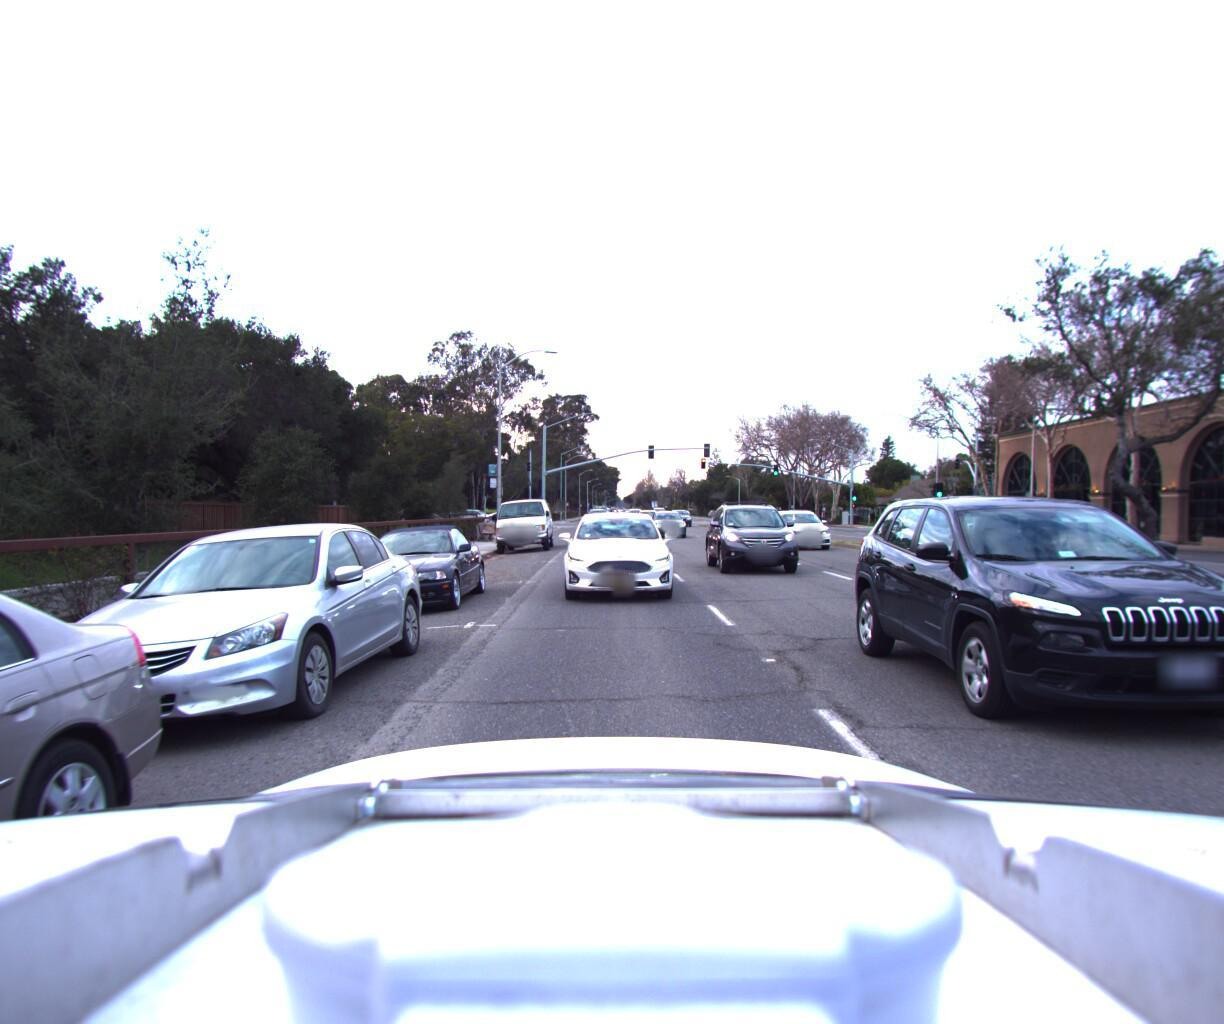car: (884, 429, 1224, 853), (0, 520, 435, 770), (336, 522, 490, 626), (553, 509, 680, 616), (707, 496, 814, 580), (774, 513, 853, 556), (641, 506, 688, 537), (772, 506, 819, 532), (588, 498, 607, 513)
truck: (490, 493, 554, 553)
